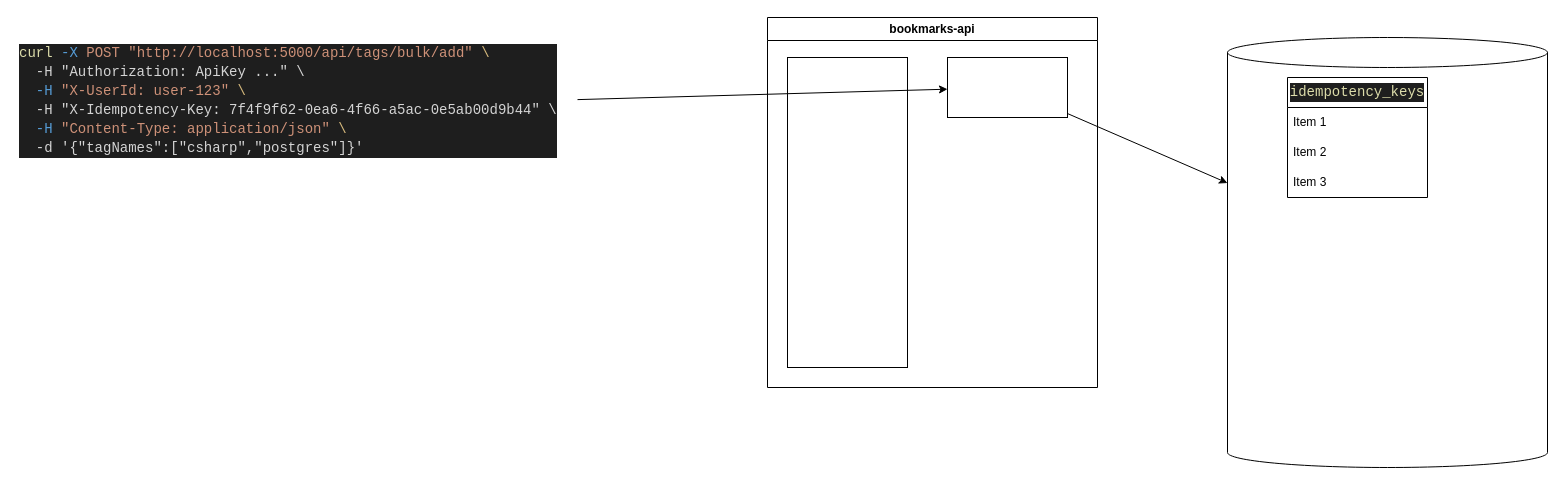
The diagram is 1565 pixels wide and 485 high, and some of its shapes have lost their labels. The centre of each missing label's shape, as x and y in pixels:
"idempotency middleware" goes at point (847, 212).
"POST /api/tags/bulk/add" goes at point (1007, 87).
